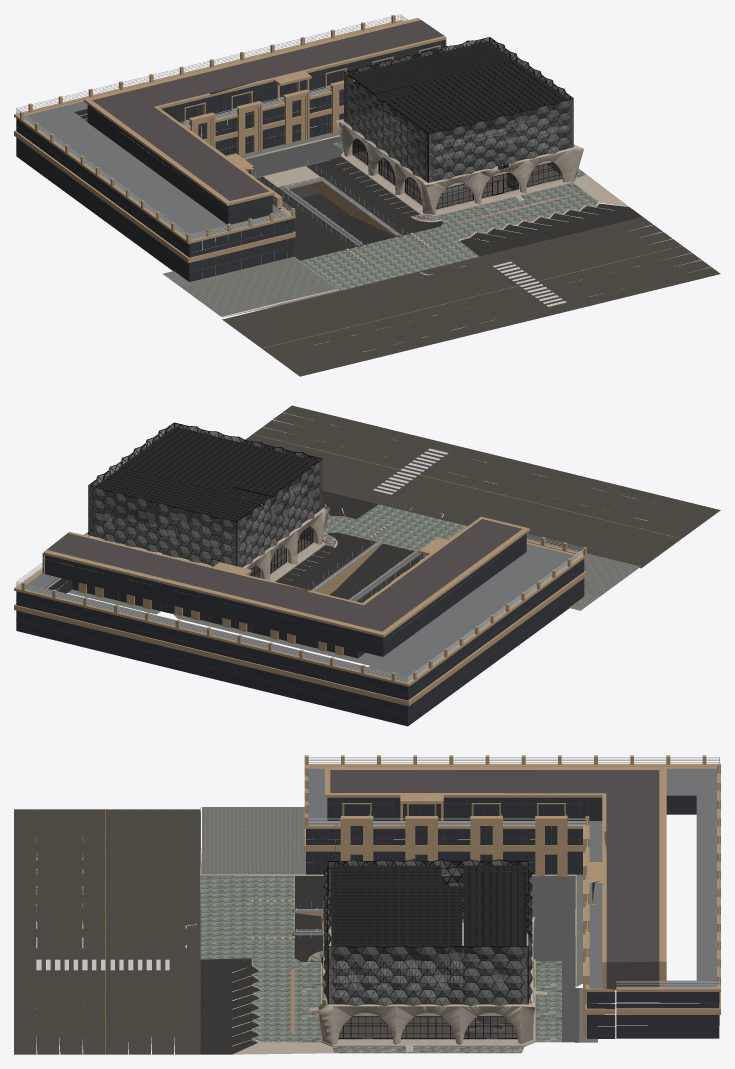
Rendered from mundo-coffeeshop-v2.glb.
The picture shows the model from 3 angles, top to bottom: view 1: azimuth 30°, elevation 25°; view 2: azimuth 150°, elevation 25°; view 3: azimuth 270°, elevation 25°; orthographic projection. The views are drawn at different scales.
Visible parts, largest first — view 1: Plane.001, Cube, Plane.090, Icosphere.002, Icosphere.002_Material_0.001, Plane, Plane.067, Icosphere.002_Material_0.002, Plane.004; view 2: Cube, Plane.001, Plane.090, Icosphere.002, Plane.004, Icosphere.002_Material_0.002, Plane, Icosphere.002_Material_0.001, Icosphere.002_Material_0.003, Plane.003; view 3: Plane.001, Cube, Plane.090, Icosphere.002, Plane.004, Plane, Plane.067, Icosphere.002_Material_0.001, Cube_Material.006_0.001.
Part boxes in pixels (bbox=[...]): Plane.001: bbox=[162, 113, 720, 376]; Cube: bbox=[14, 14, 446, 281]; Plane.090: bbox=[263, 40, 568, 247]; Icosphere.002: bbox=[344, 37, 573, 182]; Icosphere.002_Material_0.001: bbox=[364, 87, 573, 182]; Plane: bbox=[351, 64, 567, 143]; Plane.067: bbox=[416, 115, 567, 172]; Icosphere.002_Material_0.002: bbox=[358, 38, 565, 180]; Plane.004: bbox=[356, 123, 566, 181]; Cube: bbox=[14, 516, 586, 726]; Plane.001: bbox=[68, 405, 720, 665]; Plane.090: bbox=[95, 426, 421, 601]; Icosphere.002: bbox=[88, 423, 322, 567]; Plane.004: bbox=[96, 510, 310, 565]; Icosphere.002_Material_0.002: bbox=[91, 426, 308, 562]; Plane: bbox=[95, 445, 316, 532]; Icosphere.002_Material_0.001: bbox=[91, 422, 321, 549]; Icosphere.002_Material_0.003: bbox=[88, 486, 265, 566]; Plane.003: bbox=[160, 515, 262, 553]; Plane.001: bbox=[14, 807, 597, 1054]; Cube: bbox=[304, 755, 720, 1038]; Plane.090: bbox=[292, 865, 526, 1003]; Icosphere.002: bbox=[323, 859, 532, 1005]; Plane.004: bbox=[336, 959, 520, 1003]; Plane: bbox=[332, 882, 526, 959]; Plane.067: bbox=[335, 960, 458, 986]; Icosphere.002_Material_0.001: bbox=[323, 860, 480, 993]; Cube_Material.006_0.001: bbox=[313, 826, 604, 874].
Size of the model in its own units: 75.45 by 16.09 by 91.93.
Materials: 60 (13 with a texture image).
